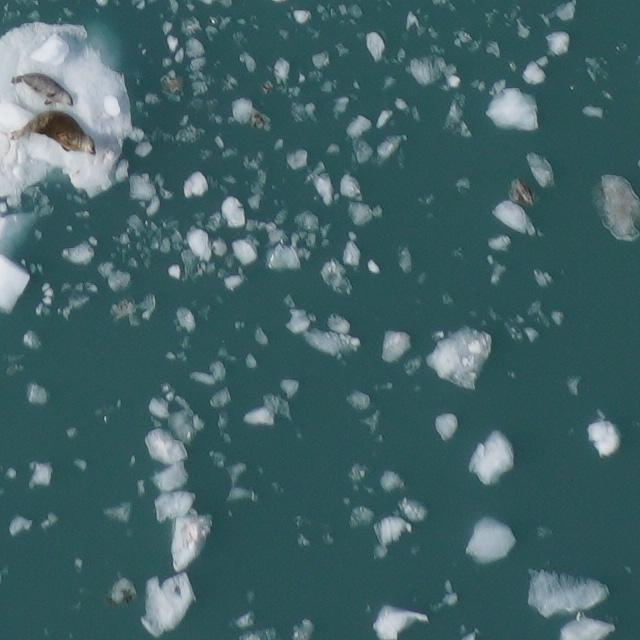seal: (30, 110, 95, 155), (12, 72, 74, 107)
